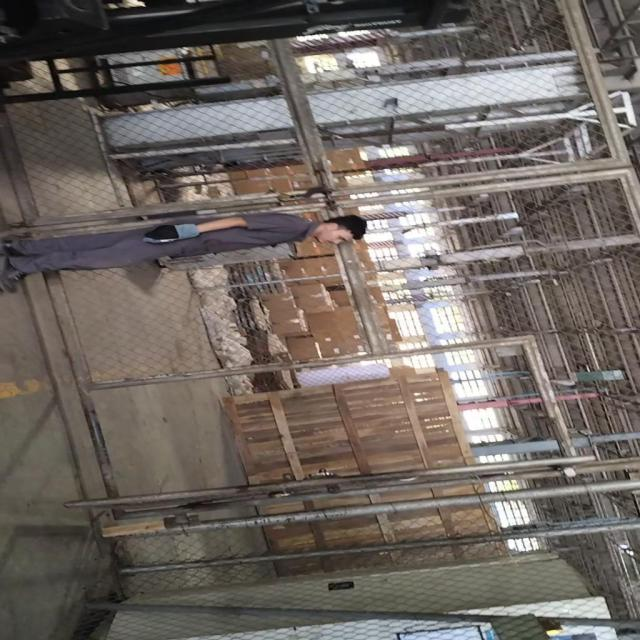Gloves-Detection: (146, 219, 195, 249)
